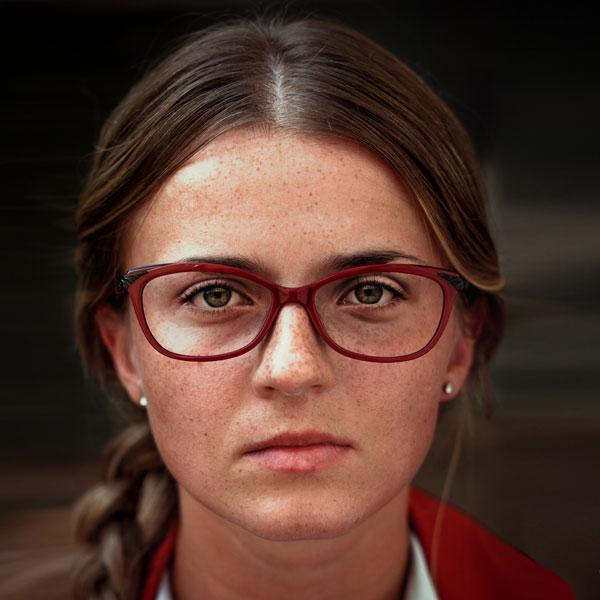Eyes: (167, 272, 264, 324), (329, 267, 412, 321)
